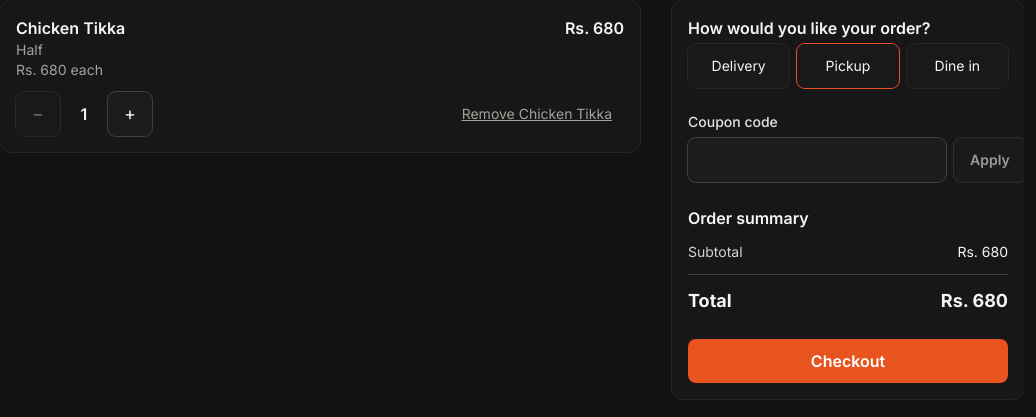
Test: priced cart › re-prices when the quantity changes
This screenshot has width=1036, height=417.
Click the button named "Increase quantity" at x=130, y=114, box [108,92,152,136]
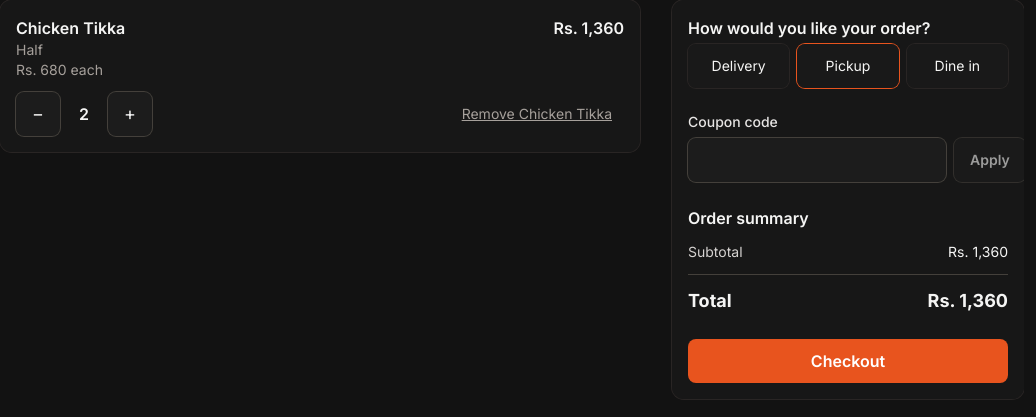
Check: the 1st text "Rs. 1,360" is shown, box [554,16,624,40]
